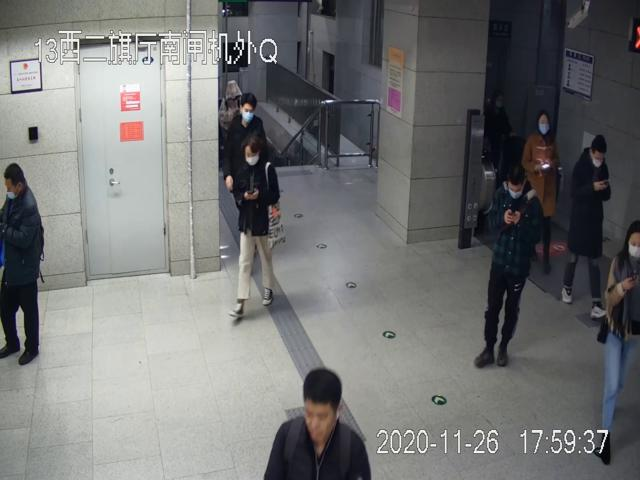person: (473, 161, 540, 368), (599, 213, 640, 462), (1, 162, 47, 365), (230, 134, 279, 318), (563, 132, 608, 319), (520, 111, 559, 275), (224, 94, 267, 197)
